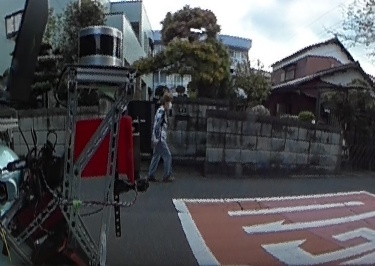person: (147, 89, 174, 180)
